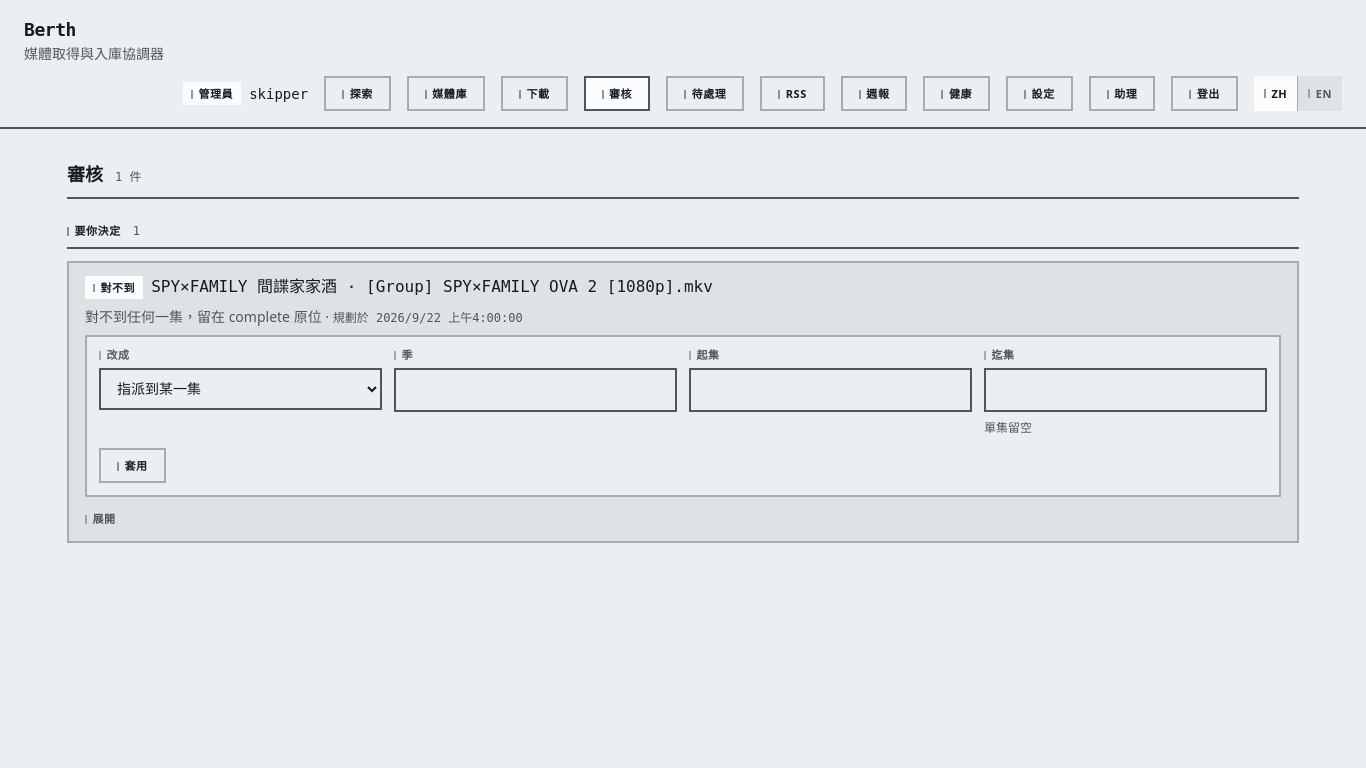
Test: 對不到與重複版本的請求沒成時說出對的原因 › 指派（離線）
Type "1" into the number field labelled "季". click: (536, 390)
box: [394, 368, 677, 412]
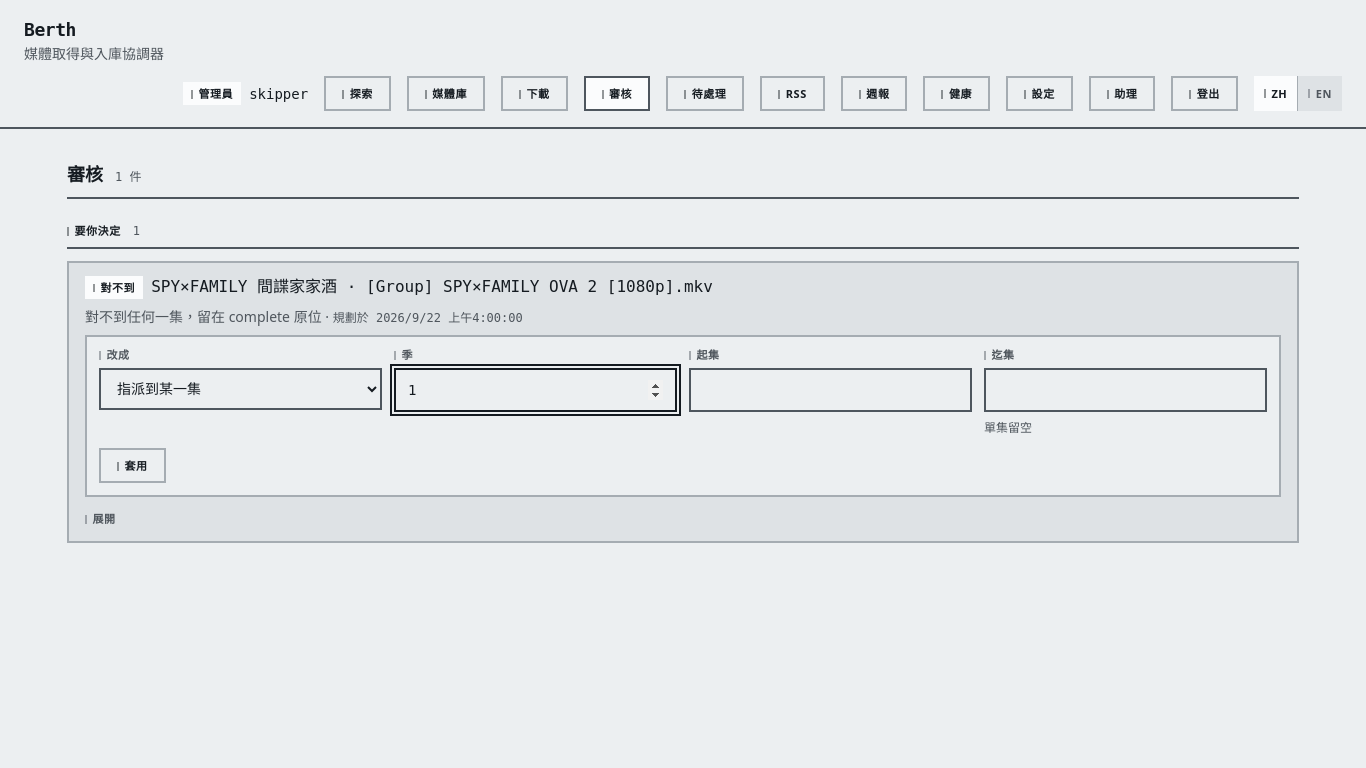
Type "2" into the number field labelled "起集". click: (830, 390)
box: [689, 368, 972, 412]
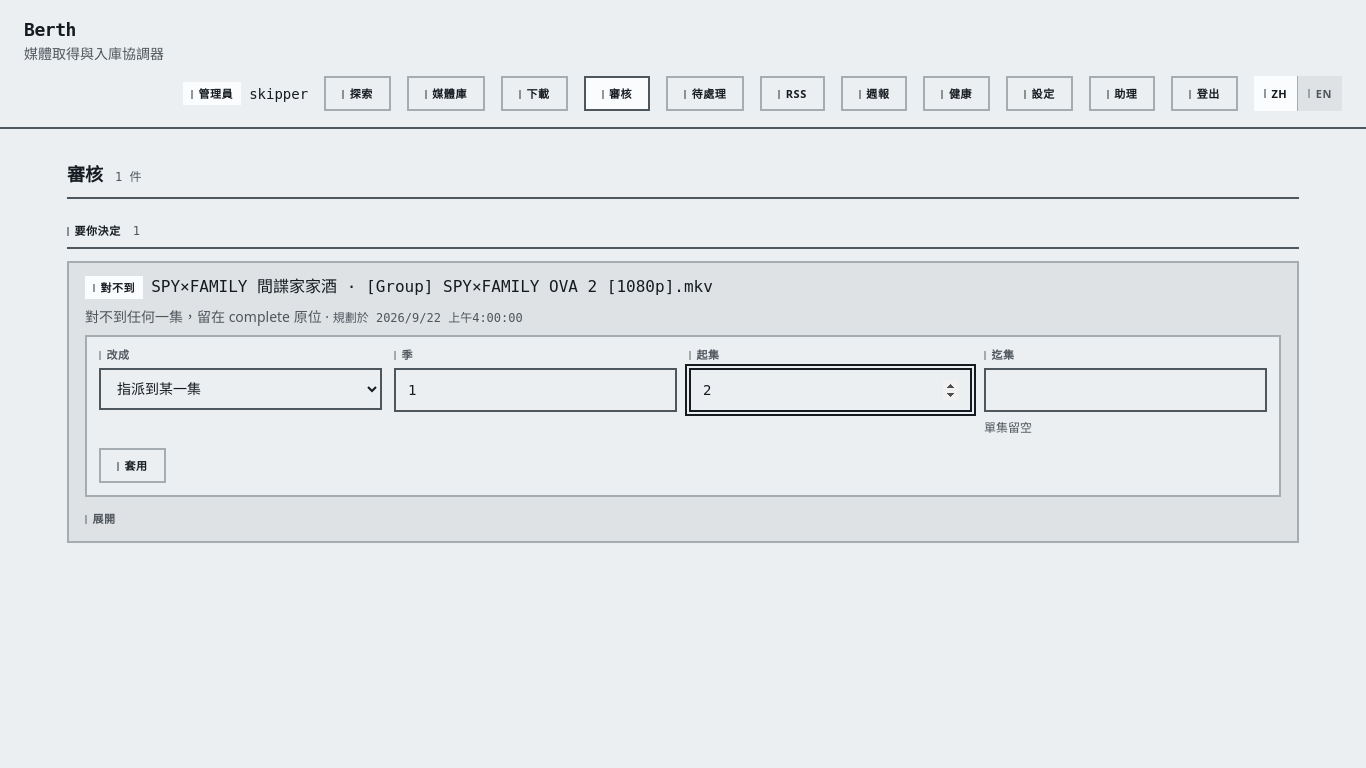
Click the button "套用". click: click(132, 466)
box: [99, 448, 166, 483]
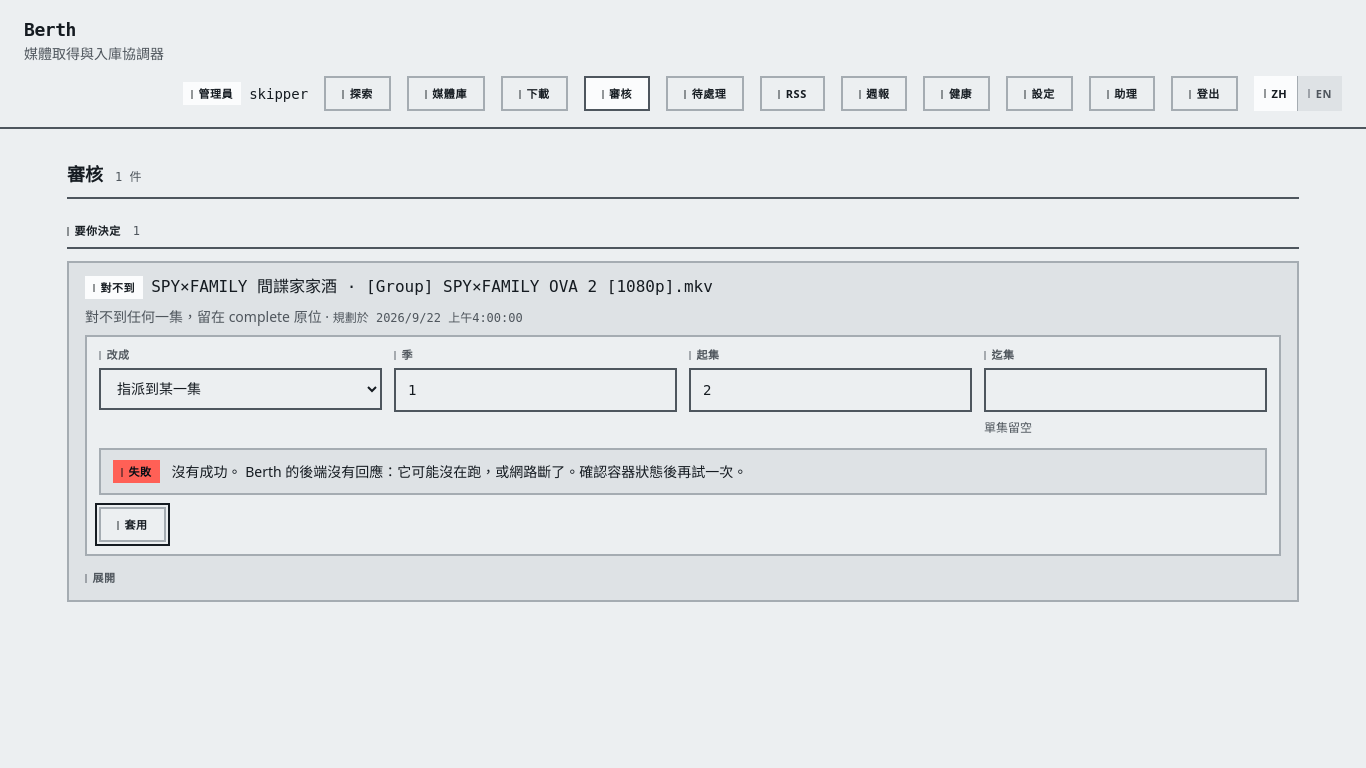
Check: the text "沒有成功。 Berth 的後端沒有回應：它可能沒在跑，或網路斷了。確認容器狀態後再試一次。" does not show "自己的 API", box [172, 462, 747, 480]
Check: the text "沒有成功。 Berth 的後端沒有回應：它可能沒在跑，或網路斷了。確認容器狀態後再試一次。" is shown, box [172, 462, 747, 480]
